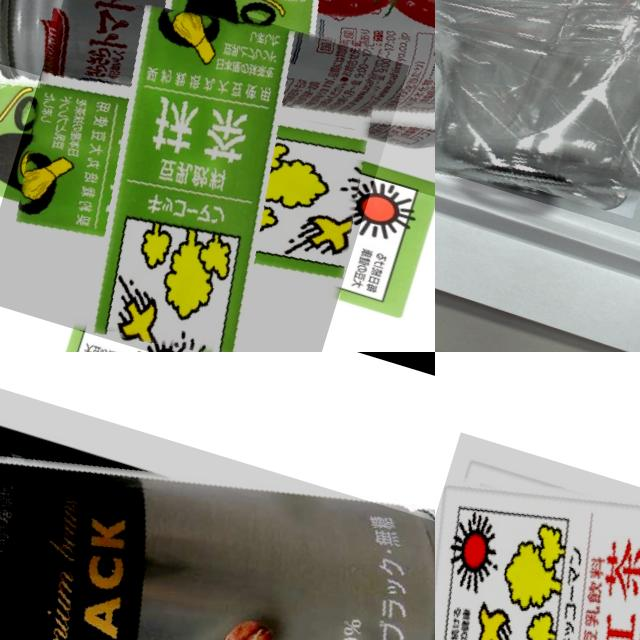Aluminium Foil: (0, 0, 408, 352), (435, 431, 640, 640)
Can: (0, 359, 435, 640), (0, 0, 435, 202)
Transparent Plastic Bottle: (435, 0, 640, 234)
